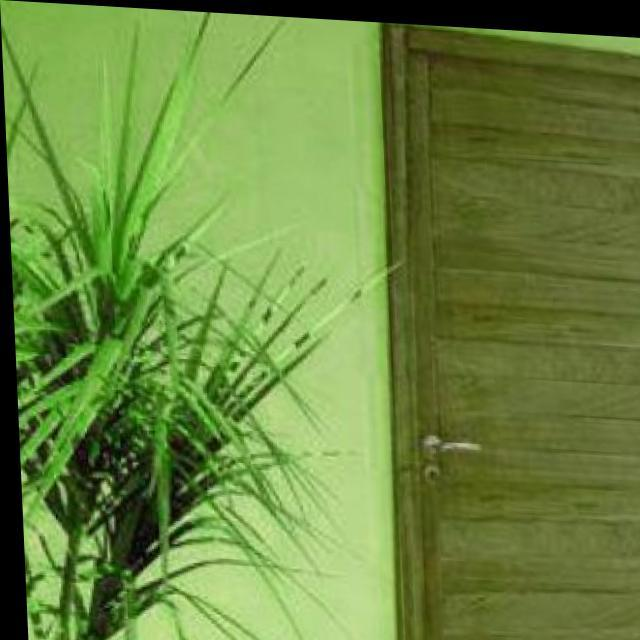door_handle: (418, 429, 481, 460)
